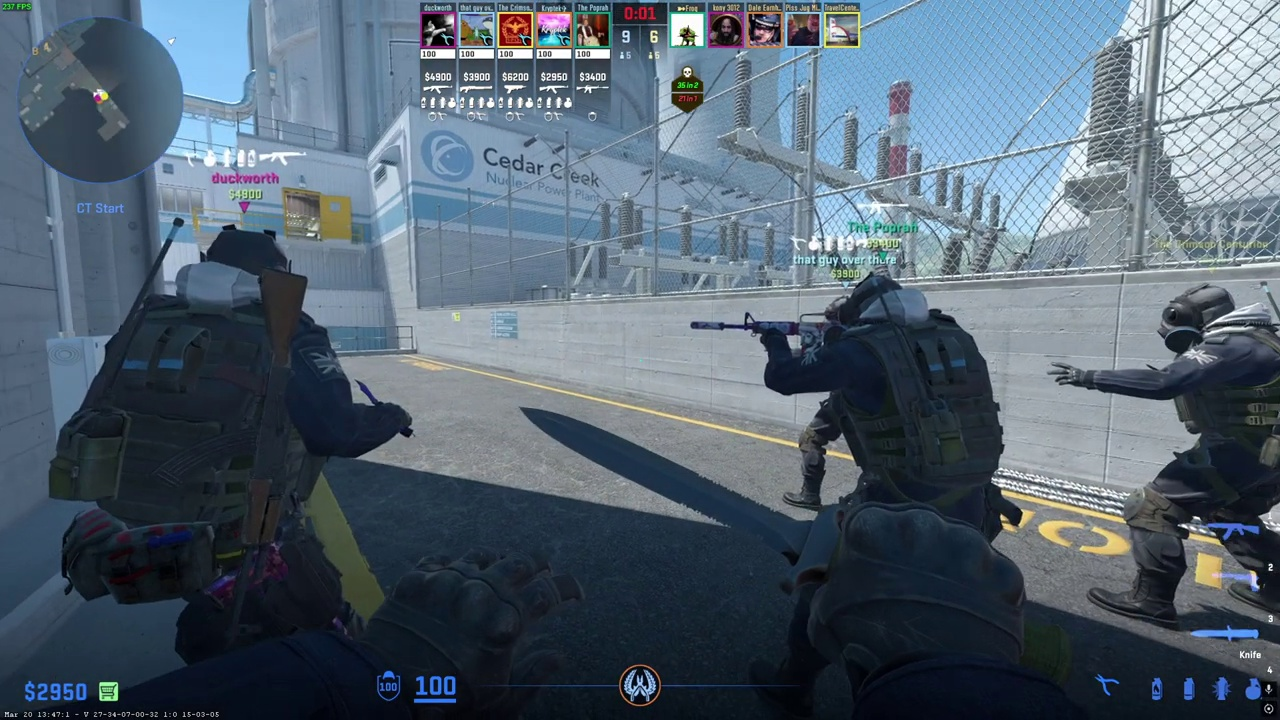CT: (89, 224, 364, 662), (778, 273, 1005, 529), (1115, 284, 1280, 628)
